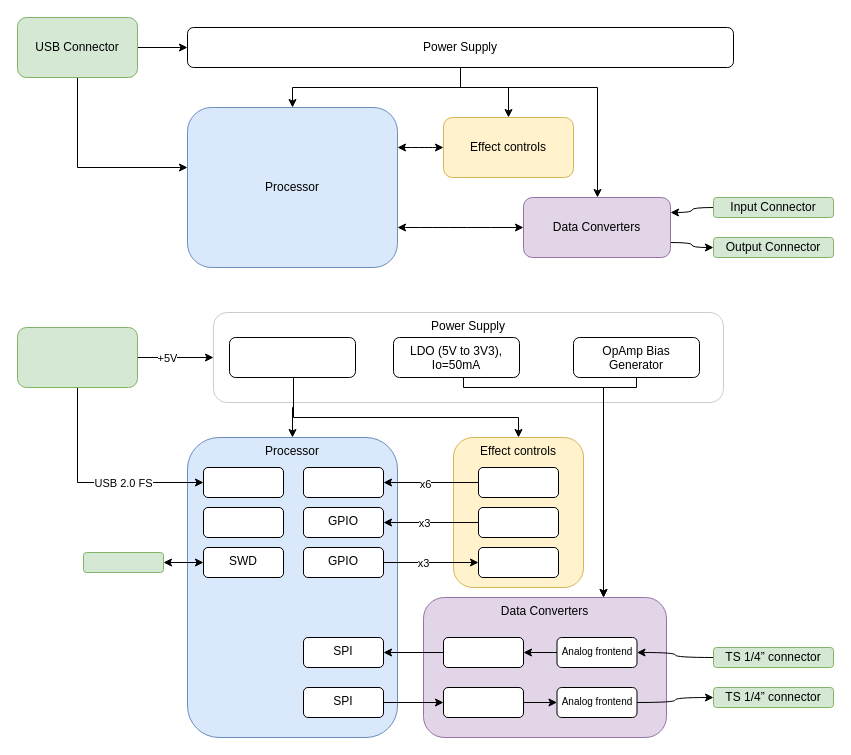
Image size: 851x755. Some labels were removed from this diagram. The shapes that lost their labels are listed below. From the top down, each one's centre as x and y in pixels, then its label:
[77,357]: USB Type-C Connector
[292,357]: Buck Converter (5V to 3V3), Io=100mA
[243,482]: USB PHY
[343,482]: ADC
[518,482]: Knobs
[243,522]: HSE XTAL
[518,522]: Buttons
[123,562]: Tag-Connect
[518,562]: LEDs
[483,652]: ADC (14-bit)
[483,702]: DAC (12-bit)
